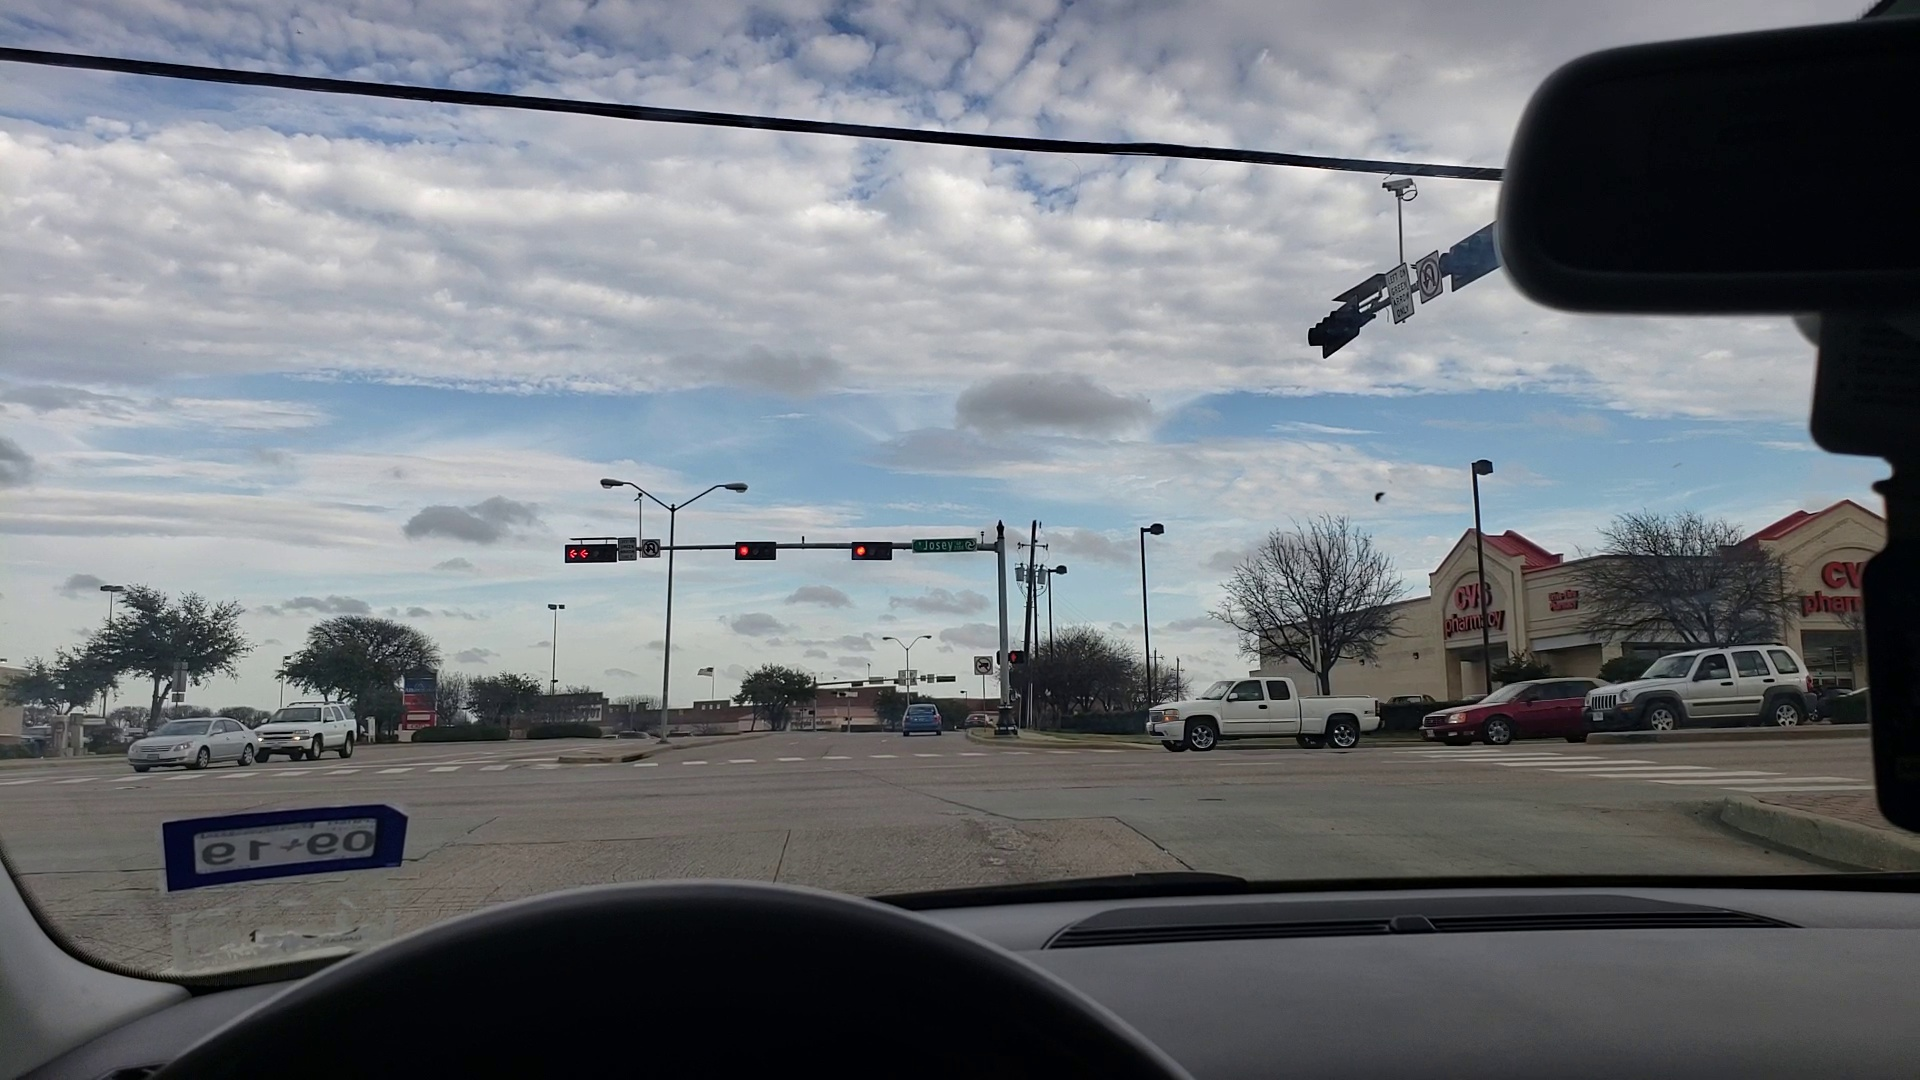car: (1582, 647, 1808, 740), (1422, 680, 1606, 742), (127, 717, 256, 770), (255, 702, 357, 758), (898, 704, 942, 735), (969, 713, 992, 727)
traffic light: (566, 543, 617, 562), (732, 538, 774, 560), (851, 539, 893, 558)
truck: (1139, 663, 1386, 752)
